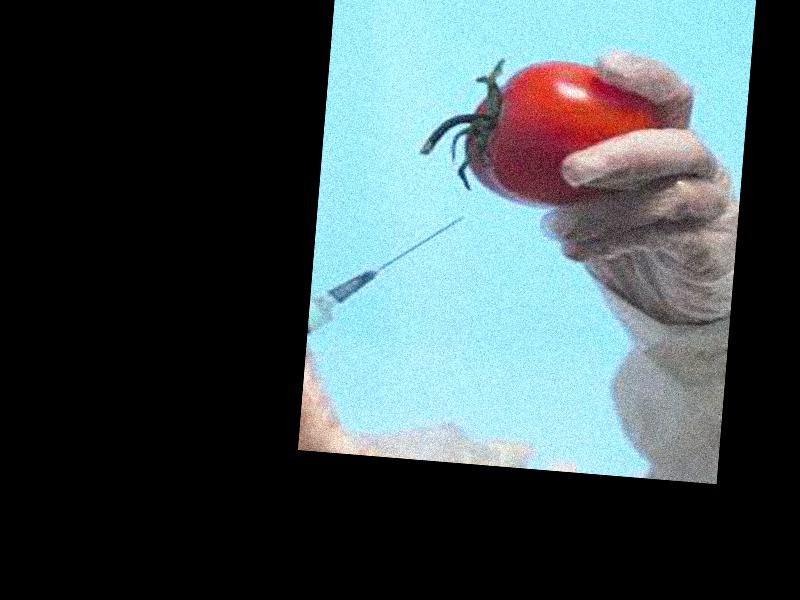Tomato: (461, 53, 665, 214)
